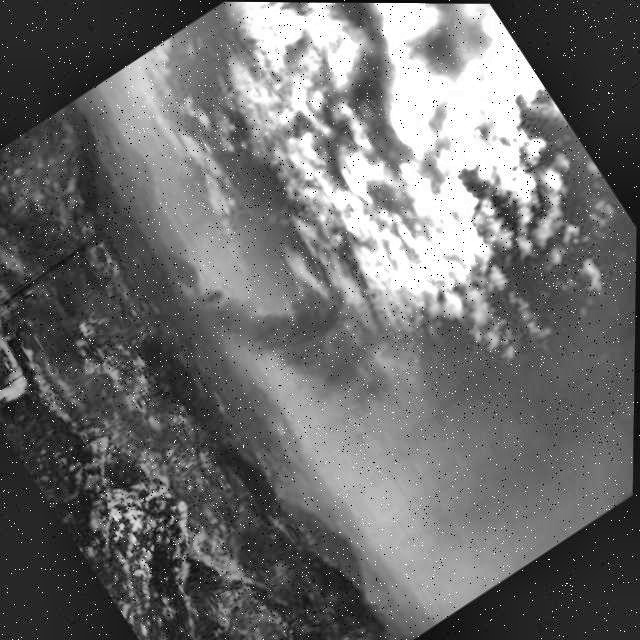Smoke: (127, 146, 466, 487)
